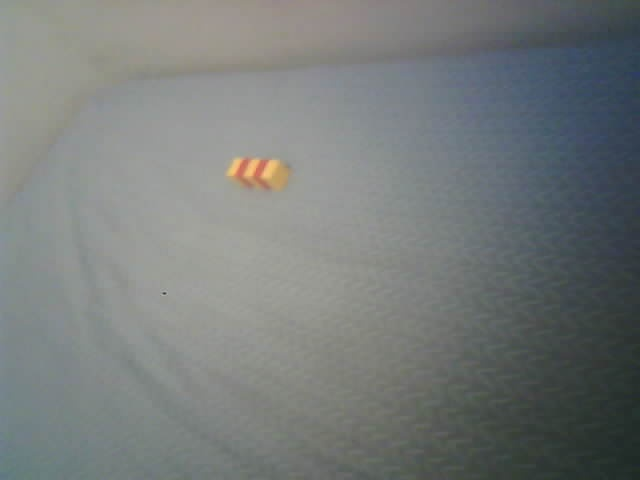lego: (224, 157, 289, 193)
